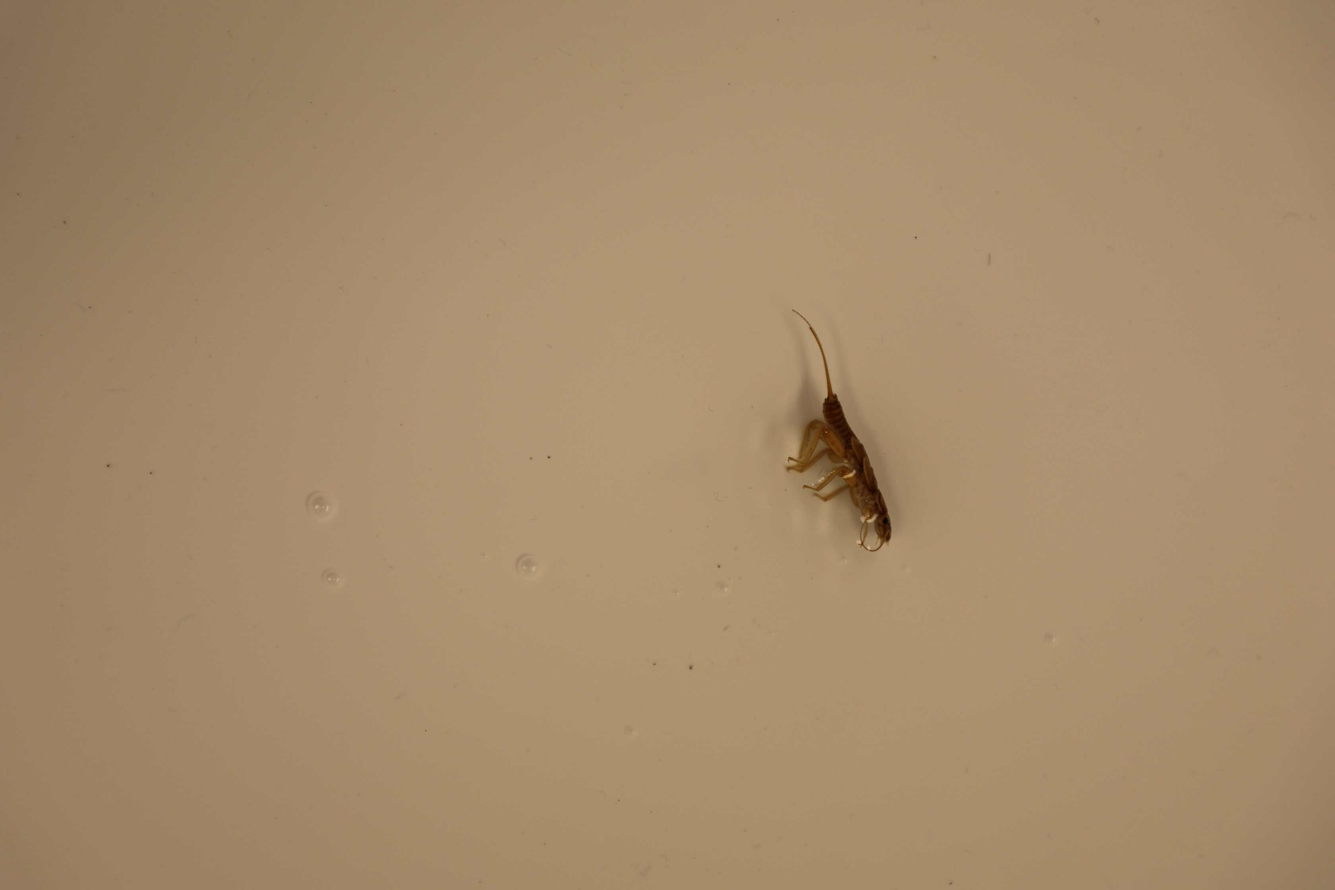Stonefly: (769, 307, 890, 560)
